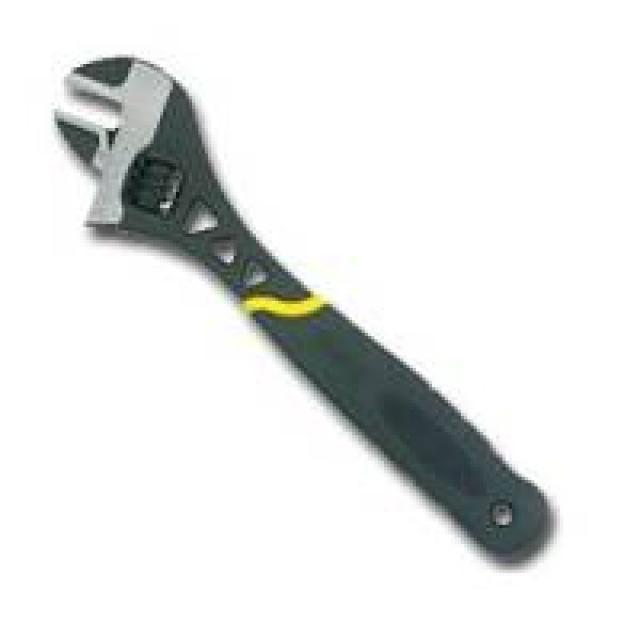wrench: (46, 51, 554, 563)
